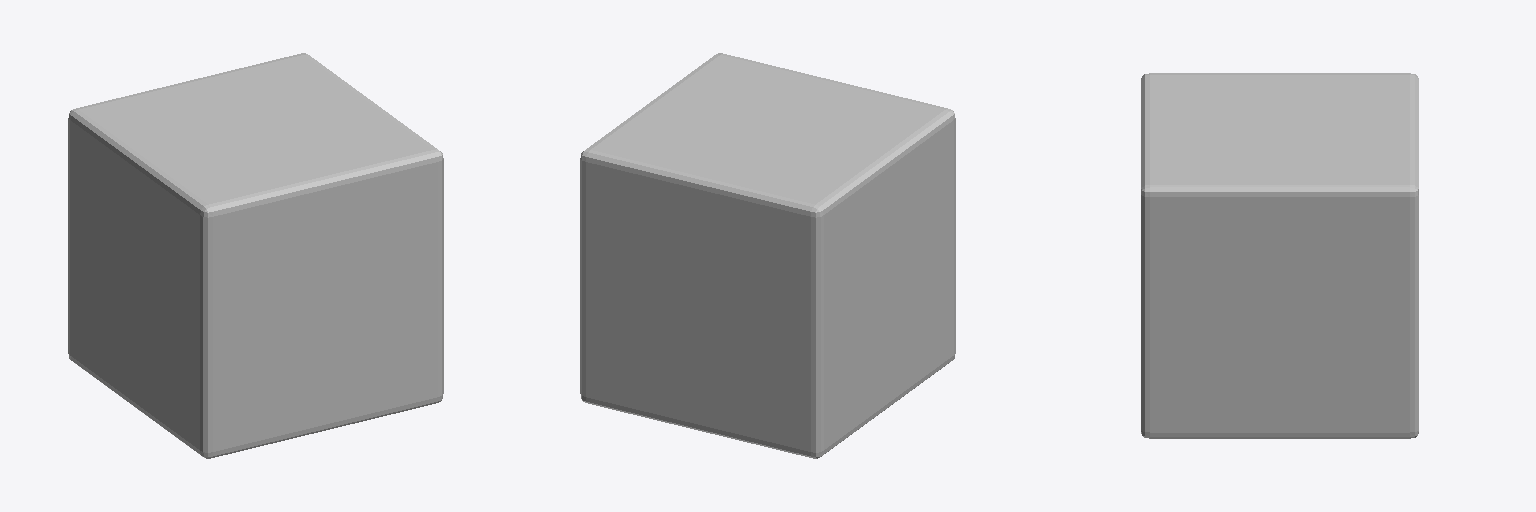
Rendered from BreakableCube.obj.
The picture shows the model from 3 angles: view 1: azimuth 30°, elevation 25°; view 2: azimuth 150°, elevation 25°; view 3: azimuth 270°, elevation 25°; orthographic projection.
Parts seen in each view (by area): view 1: Cube_Cube.001; view 2: Cube_Cube.001; view 3: Cube_Cube.001.
Part boxes in pixels (bbox=[...]): Cube_Cube.001: bbox=[68, 53, 443, 458]; Cube_Cube.001: bbox=[580, 53, 955, 458]; Cube_Cube.001: bbox=[1141, 73, 1418, 438].
Size of the model in its own units: 1 by 1 by 1.